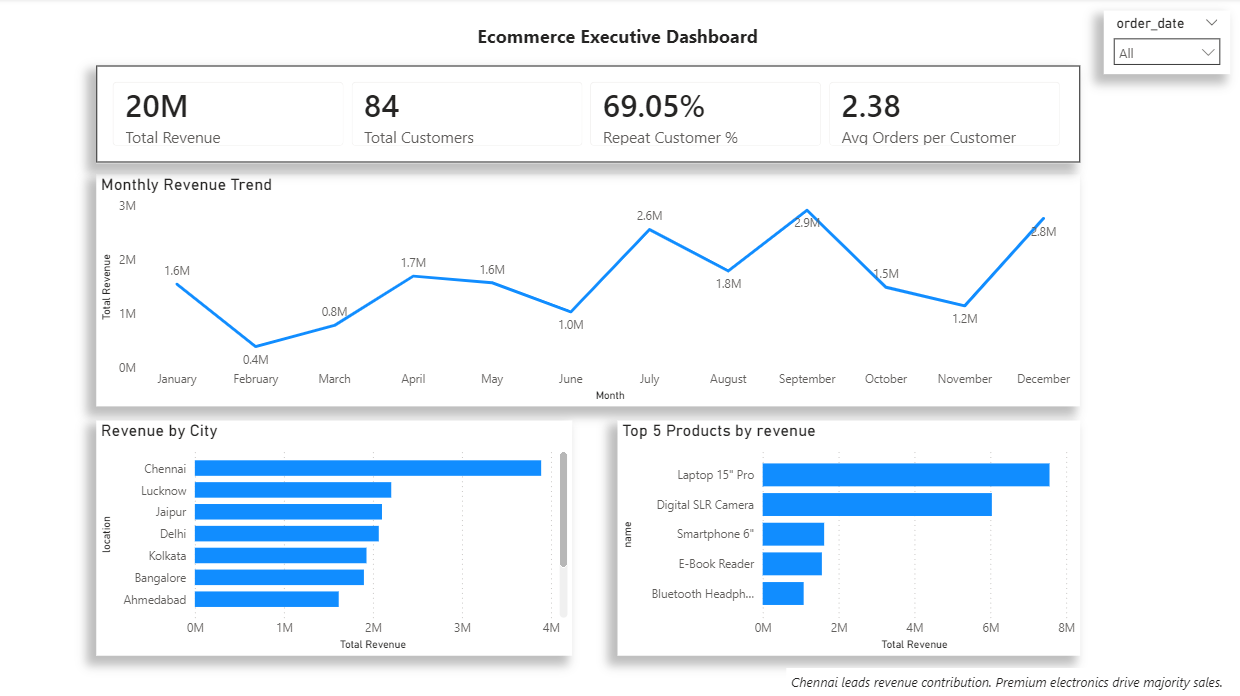

The page's visual inventory and layout, read from the dashboard file:
{"tool":"powerbi","page":{"name":"Page 1","canvas":[1280,720],"ordinal":0},"visuals":[{"type":"lineChart","title":"Monthly Revenue Trend","fields":{"Category":["order.order_date.Variation.Date Hierarchy.Month"],"Y":["1_measures.Total_revenu"]},"box":[99.2,181.6,1013.6,239.6],"z":0},{"type":"clusteredBarChart","title":"Top 5 Products by revenue","fields":{"Category":["products.name"],"Y":["1_measures.Total_revenu"]},"box":[636.3,435,476.6,242.1],"z":1},{"type":"barChart","title":"Revenue by City","fields":{"Category":["customers.location"],"Y":["1_measures.Total_revenu"]},"box":[99.2,435,490.7,242.1],"z":2},{"type":"cardVisual","fields":{"Data":["1_measures.Total_revenu","1_measures.Total Customers","1_measures.Repeat Customer %","1_measures.Avg Orders per Customer"]},"box":[99.2,69.8,1013.6,100.5],"z":3},{"type":"slicer","fields":{"Values":["order.order_date"]},"box":[1137.3,12.9,130.1,65.7],"z":4},{"type":"textbox","box":[486.9,21.9,307.8,34.8],"z":5},{"type":"textbox","box":[810.1,690.4,470.1,29.6],"z":6}]}

Visuals, with their boxes in screenshot pixels (x1, y1, x2, y2), scaled from the page's 1280x720 canvas onto the 1240x696 screenshot:
"Monthly Revenue Trend" lineChart: x1=96, y1=176, x2=1078, y2=407
"Top 5 Products by revenue" clusteredBarChart: x1=616, y1=420, x2=1078, y2=655
"Revenue by City" barChart: x1=96, y1=420, x2=571, y2=655
cardVisual - 1_measures.Total_revenu x 1_measures.Total Customers: x1=96, y1=67, x2=1078, y2=165
slicer - order.order_date: x1=1102, y1=12, x2=1228, y2=76
textbox: x1=472, y1=21, x2=770, y2=55
textbox: x1=785, y1=667, x2=1239, y2=695
